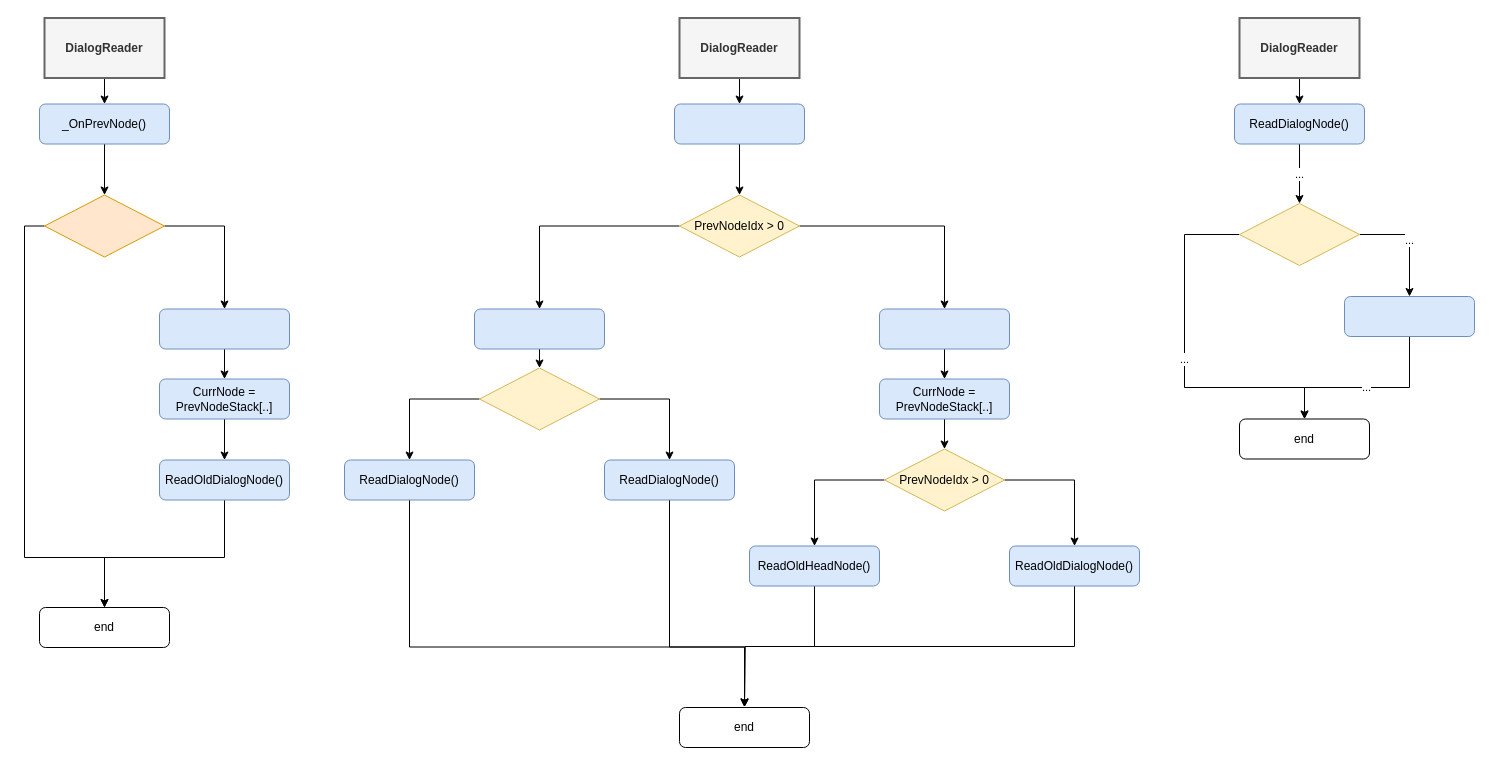
This 1492x765 diagram has some shape labels left out. Each missing label, with the box of its shape:
_OnNextNode(): (674, 103, 804, 144)
CurrentNode.Text ~= nil: (1238, 202, 1360, 266)
CurrNode = CurrNode.NextId: (474, 308, 604, 349)
CurrNode ~= nil: (478, 367, 600, 430)
Decrement PrevNodeIdx: (878, 308, 1010, 349)
Increment PrevNodeIdx: (158, 308, 290, 349)
Insert CurrentNode to PrevNodeStack: (1344, 296, 1474, 336)
PrevNodeIdx < Stack size: (44, 194, 164, 257)
